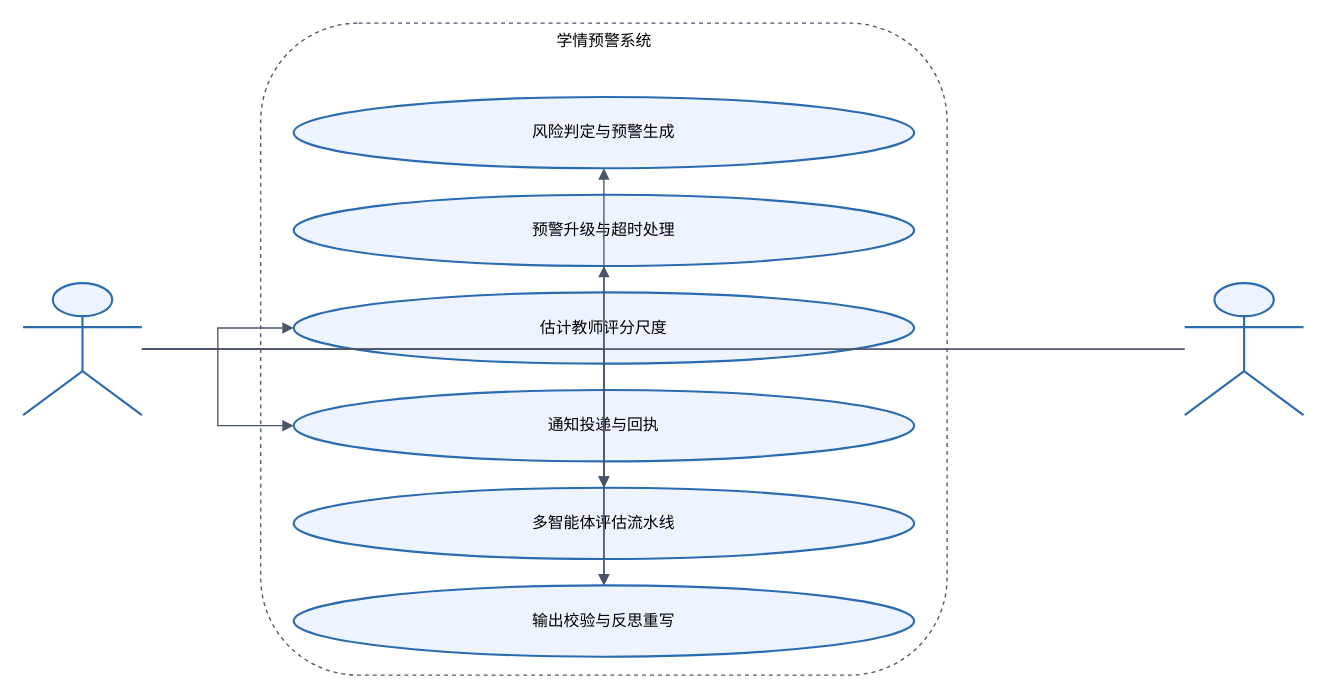
The diagram is 1328 pixels wide and 698 high, and some of its shapes have lost their labels. Each missing label, with the centre of its shape:
"大模型服务" goes at point (1243, 348).
"系统定时任务" goes at point (81, 348).
